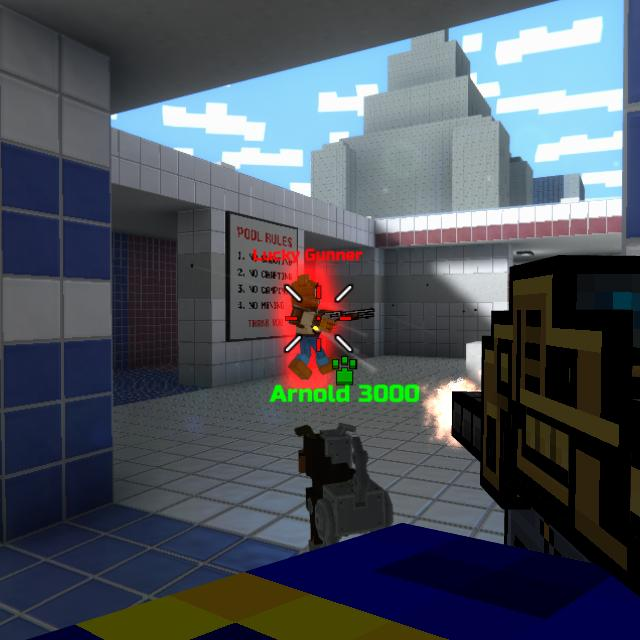Enemy: (287, 274, 338, 381)
